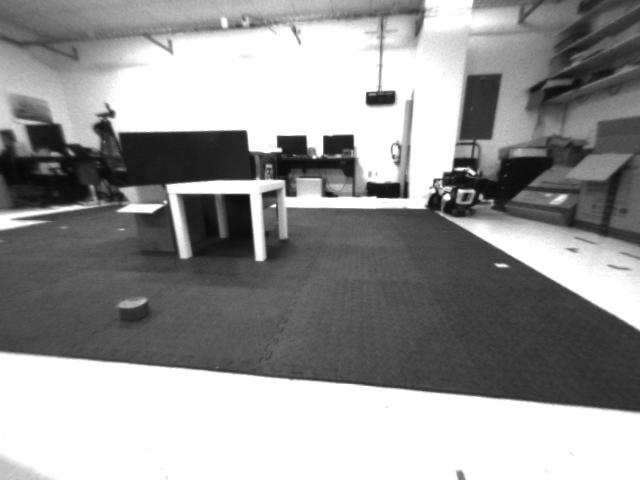dogtoy: (102, 285, 165, 336)
